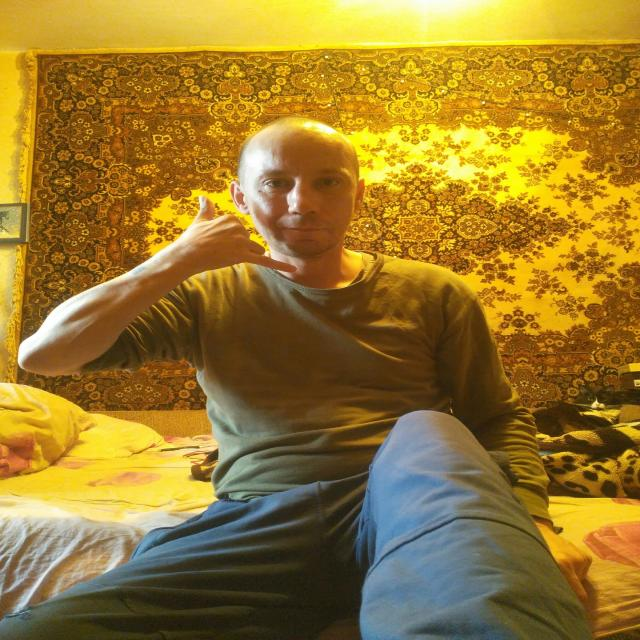call: (175, 193, 300, 278)
